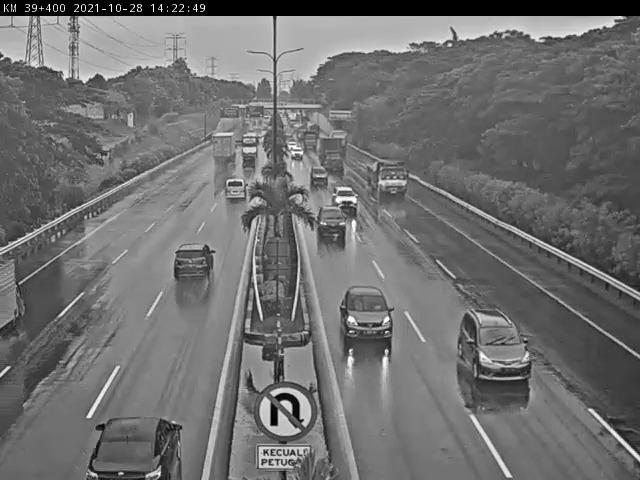big truck: (367, 159, 409, 198), (317, 140, 349, 177), (210, 131, 234, 163)
car: (448, 304, 541, 391), (83, 412, 187, 480), (334, 281, 401, 352), (169, 239, 221, 289), (313, 205, 350, 246), (221, 177, 251, 211), (328, 184, 362, 214), (310, 167, 329, 186), (289, 147, 304, 162), (240, 156, 256, 170)
